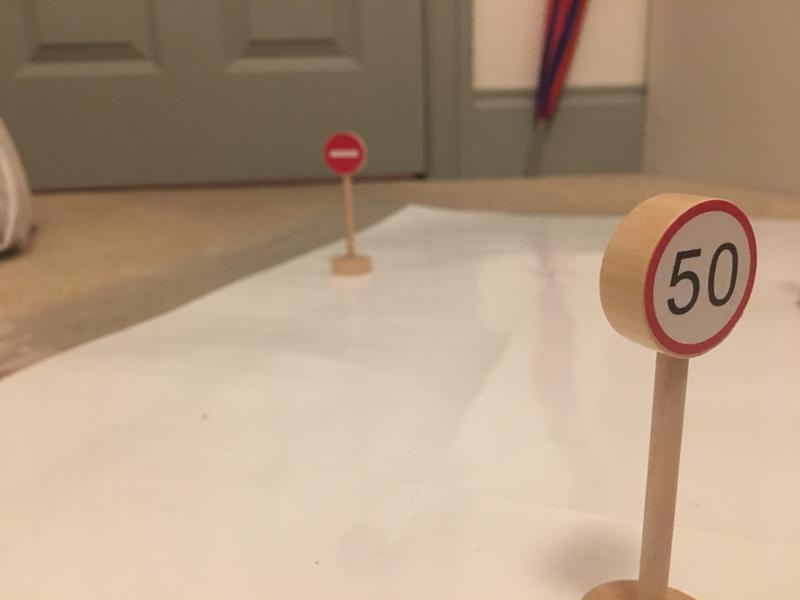Traffic_Sign_50: (647, 198, 752, 356)
Traffic_Sign_No_Entry: (323, 132, 364, 172)
